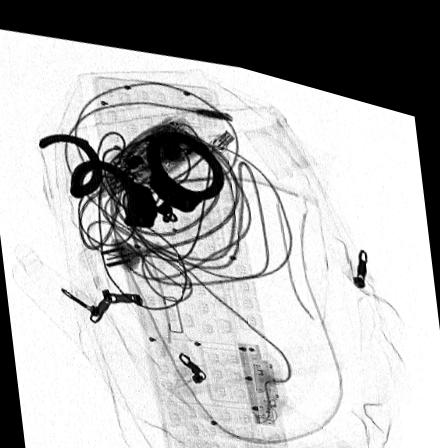HandCuffs: (36, 122, 223, 220)
